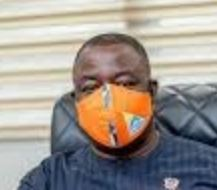with_facemask: (72, 92, 164, 148)
